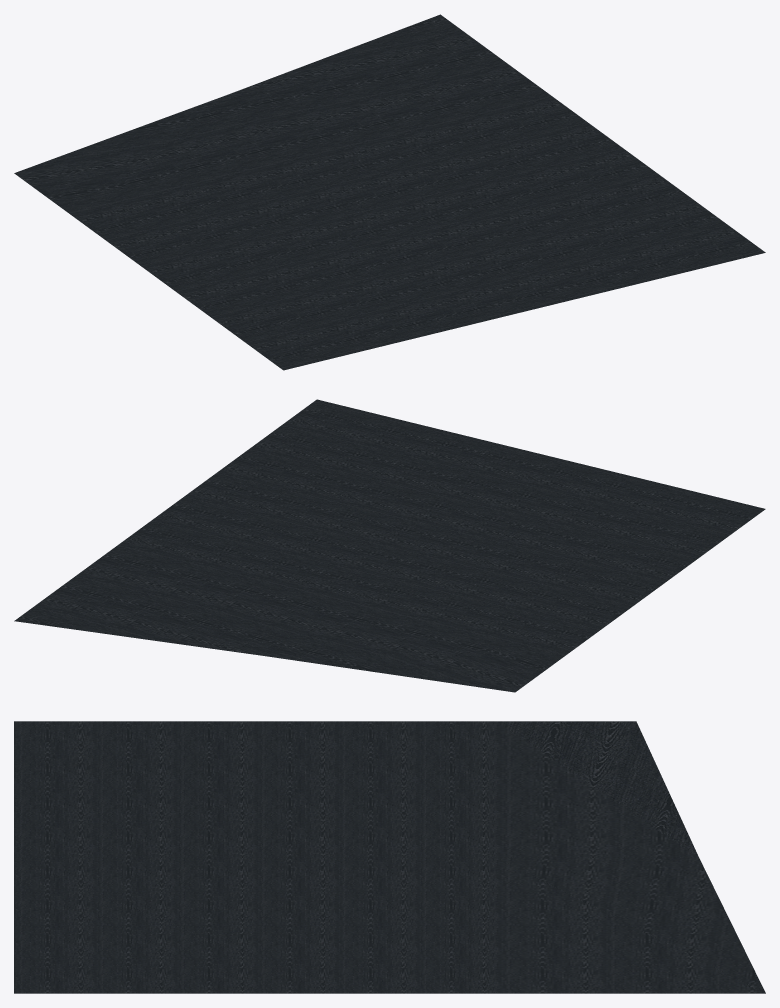
File: GYM_Ceiling_10.fbx
3 renders of one model, top to bottom at view 1: azimuth 30°, elevation 25°; view 2: azimuth 150°, elevation 25°; view 3: azimuth 270°, elevation 25°, orthographic. The views are drawn at different scales.
Parts seen in each view (by area): view 1: GYM_Ceiling_Panel_10; view 2: GYM_Ceiling_Panel_10; view 3: GYM_Ceiling_Panel_10.
Boxes of the visible parts, bbox=[...] form: GYM_Ceiling_Panel_10: bbox=[14, 14, 765, 370]; GYM_Ceiling_Panel_10: bbox=[14, 399, 765, 692]; GYM_Ceiling_Panel_10: bbox=[14, 721, 765, 993].
Size of the model in its own units: 4 by 1.26e-15 by 4.67.
Materials: 1 (1 with a texture image).
